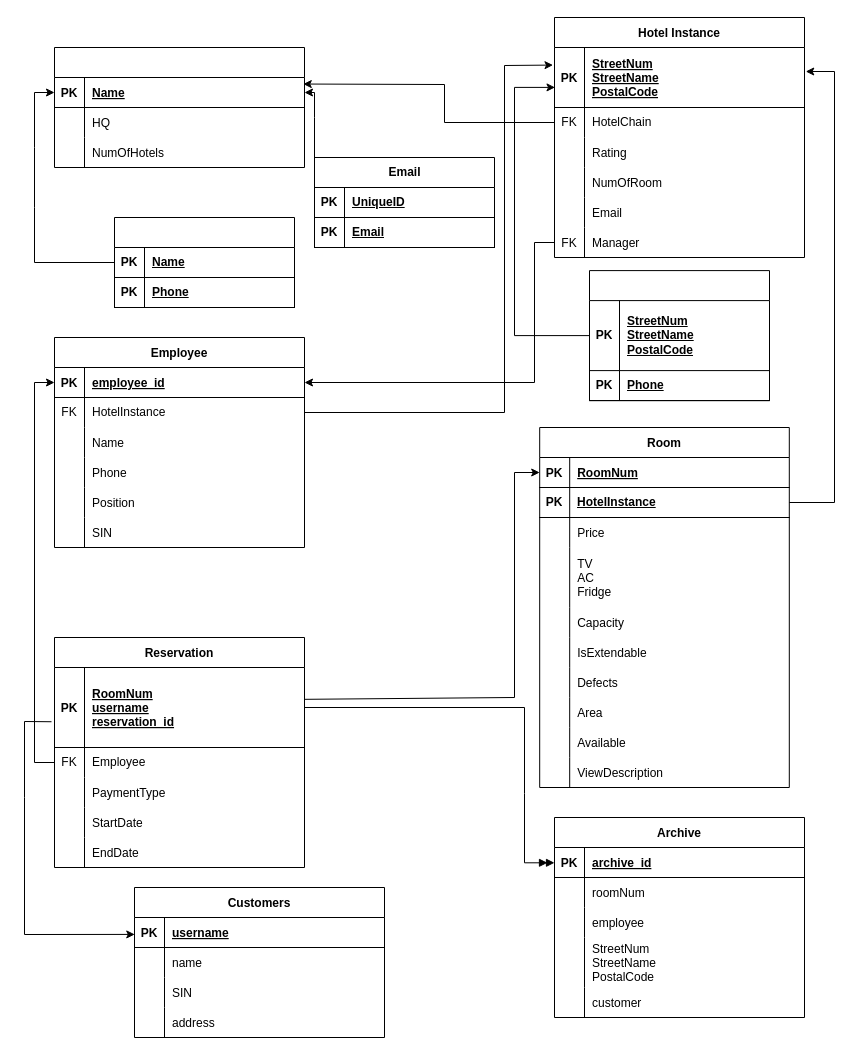
Some shapes in this 860 by 1055 pixel diagram are drawn without their labels. The shapes that lost their labels are listed below. From the top down, each one's box as (x1, y1, x2, y2) in pixels, then its label:
(54, 46, 304, 168): Hotel Chain
(114, 216, 294, 308): ChainPhone
(588, 270, 770, 401): HotelPhone
